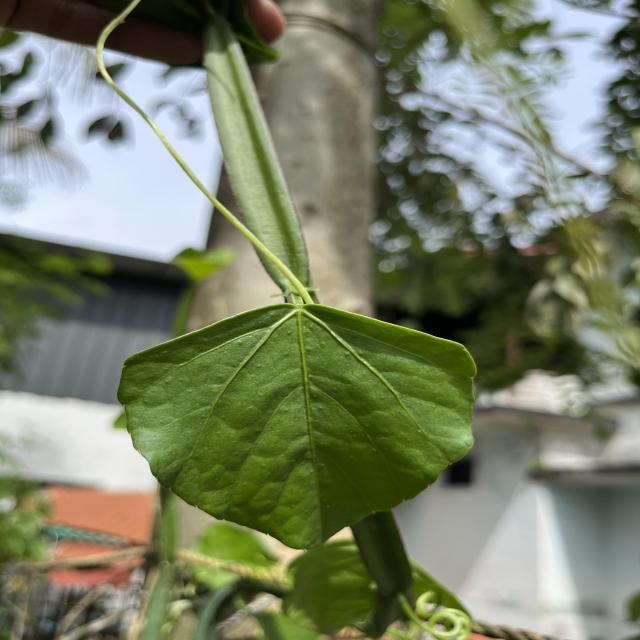Cissus quadrangularis: (112, 299, 480, 553)
